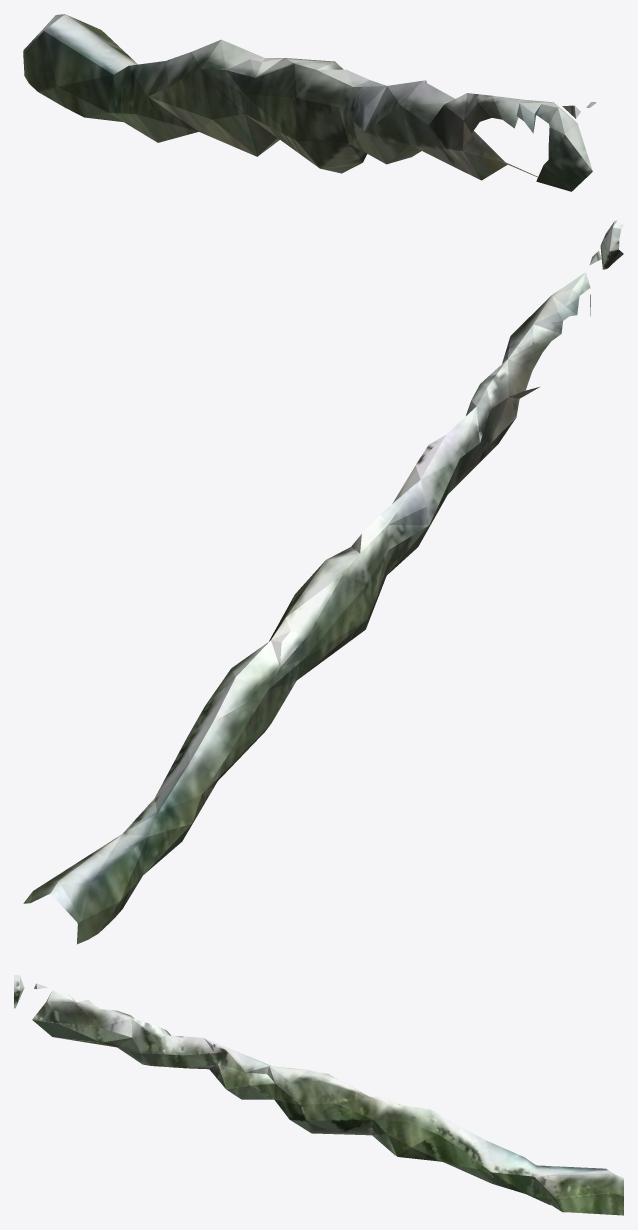
3 views of the same model, one above another, from view 1: azimuth 30°, elevation 25°; view 2: azimuth 150°, elevation 25°; view 3: azimuth 270°, elevation 25° (orthographic). The views are drawn at different scales.
Size of the model in its own units: 0.3358 by 1.15 by 2.95.
1 material, 1 textured.
